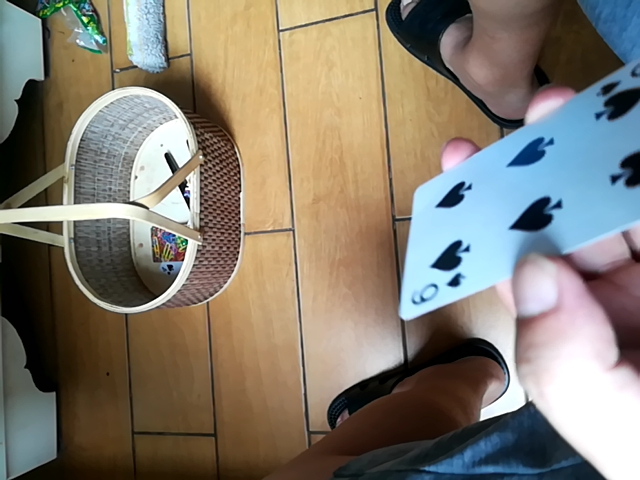ht 6: (399, 87, 634, 323)
